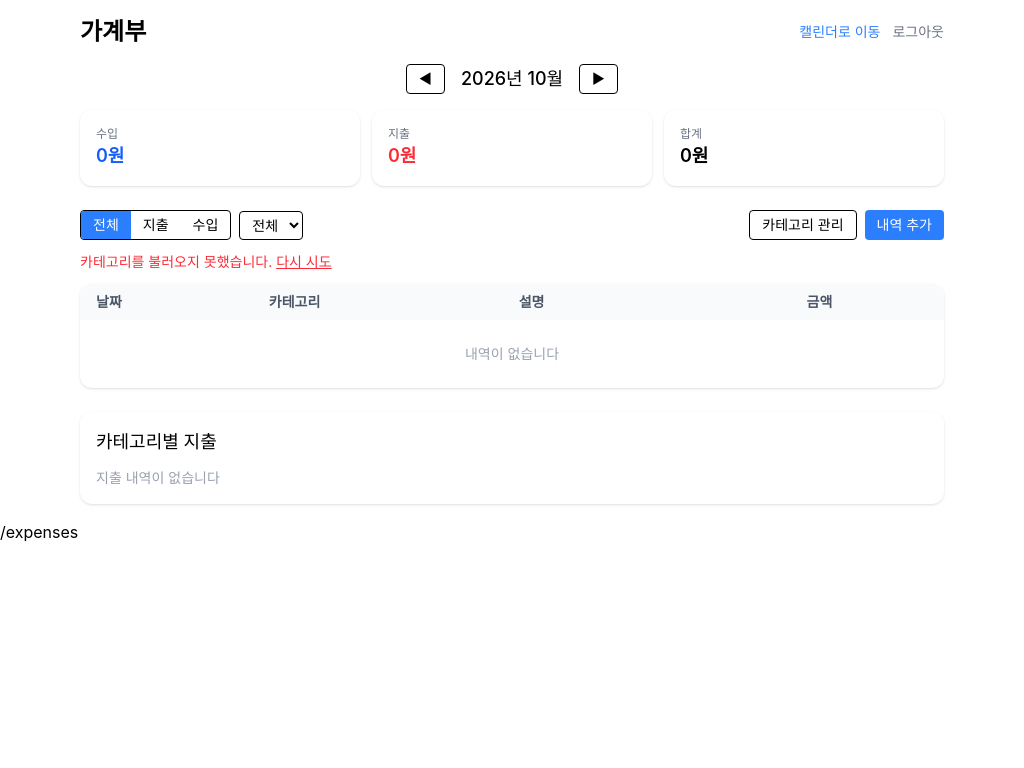
Test: ExpensesPage › 렌더링 › render_whenCategoriesFail_showsErrorInsteadOfEmptyGuide
Expected: the text "카테고리를 불러오지 못했습니다." is shown, [80,253,272,270]
Click the button "내역 추가". click: {"x": 904, "y": 225}
box: [864,210,944,240]
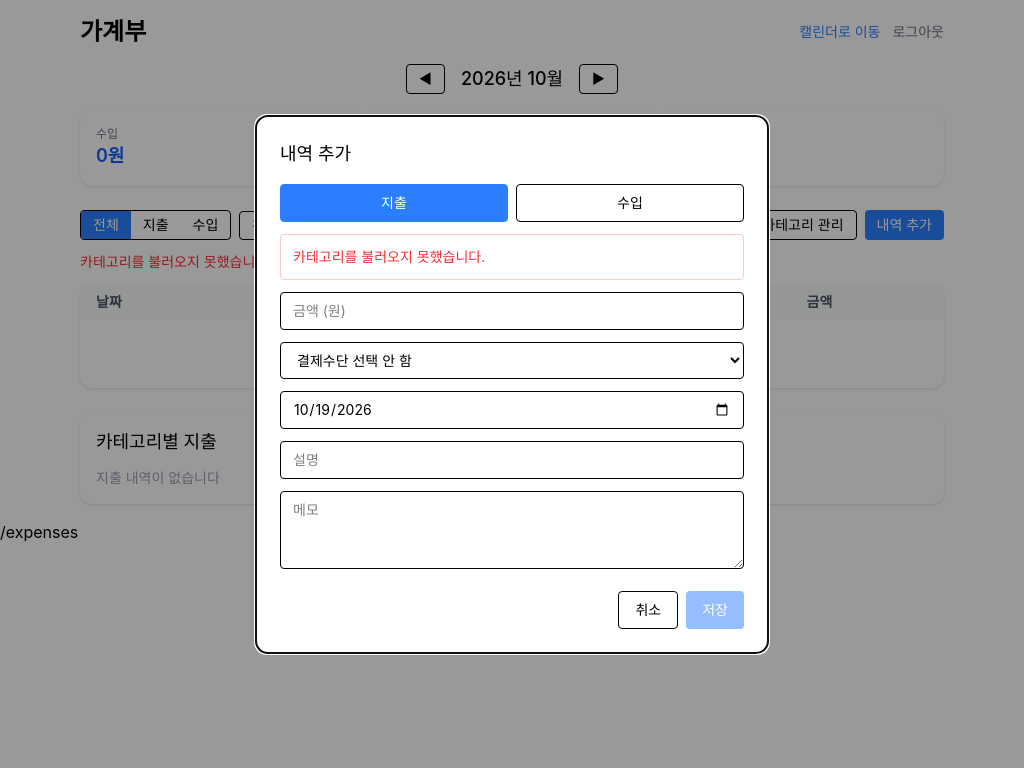
Now the text "카테고리를 불러오지 못했습니다." is shown, box [280,234,744,280]
Now the button "저장" is disabled, box [686,590,744,628]
Click the button "취소". click: {"x": 648, "y": 610}
box: [618,590,678,628]
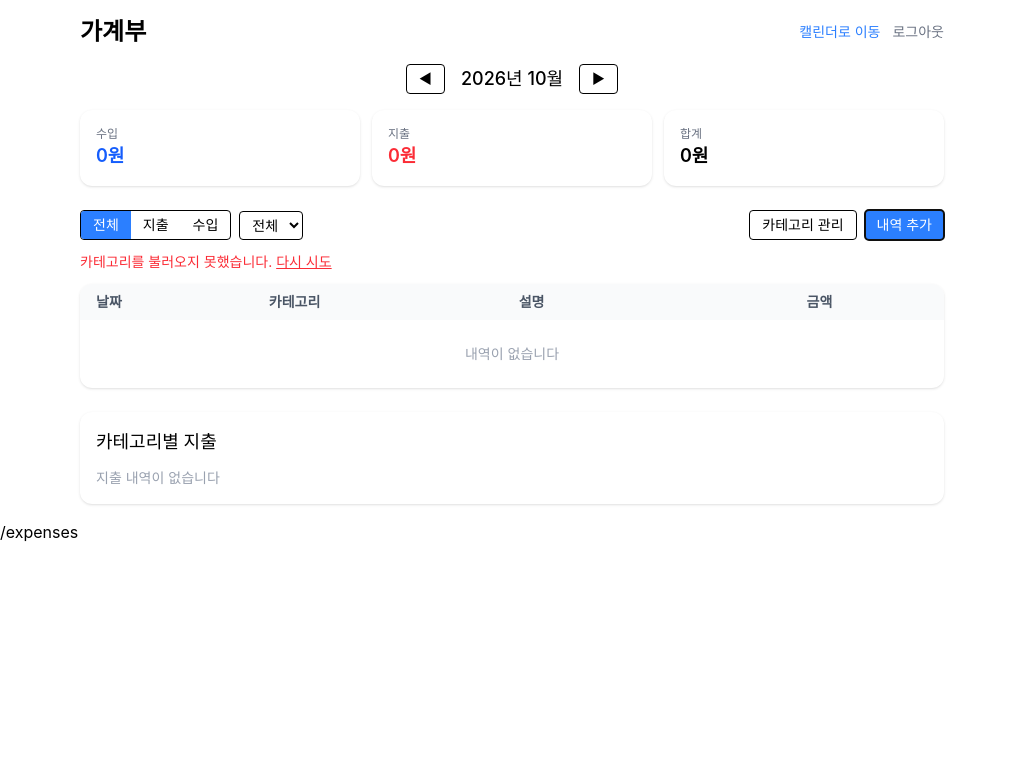
Click the button "카테고리 관리". click: {"x": 803, "y": 225}
box: [749,210,856,240]
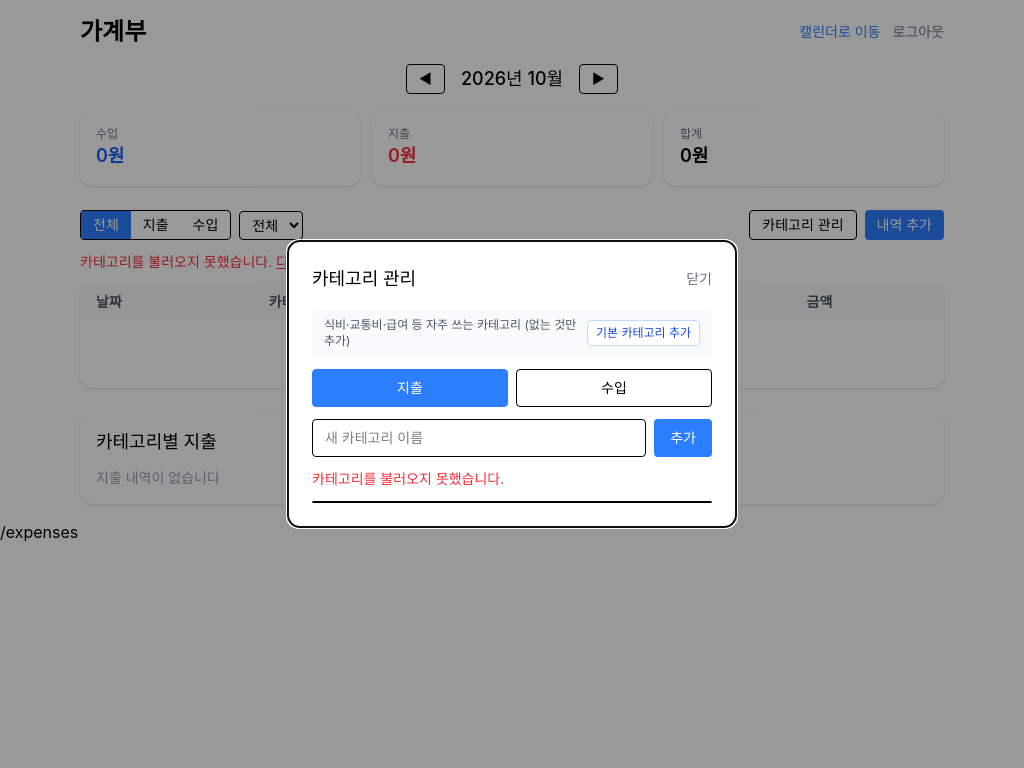
Now the text "카테고리를 불러오지 못했습니다." is shown, box [312,470,504,487]
